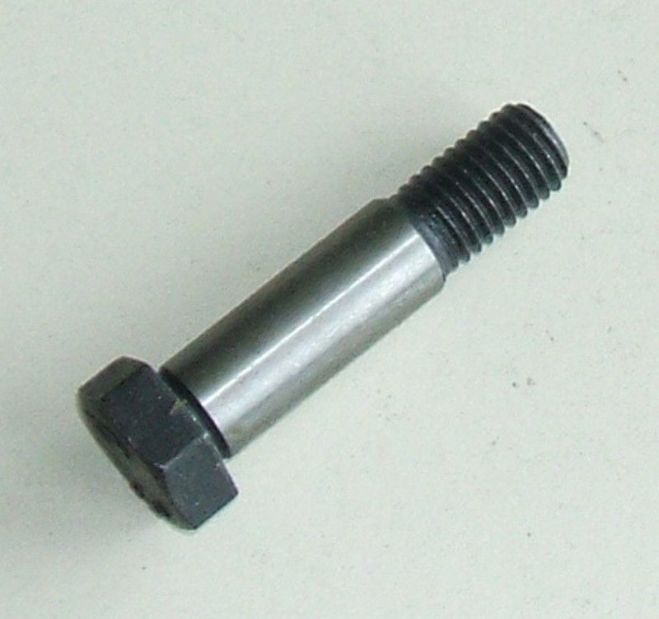screw: (77, 103, 570, 531)
